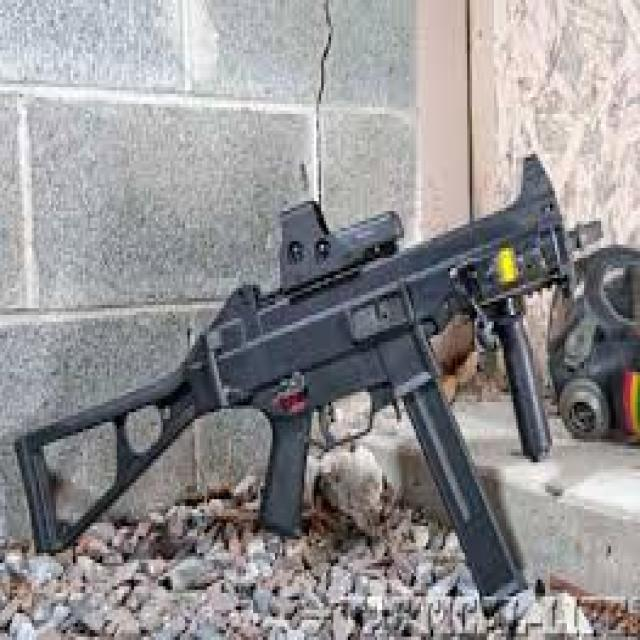Gun: (6, 169, 608, 586)
